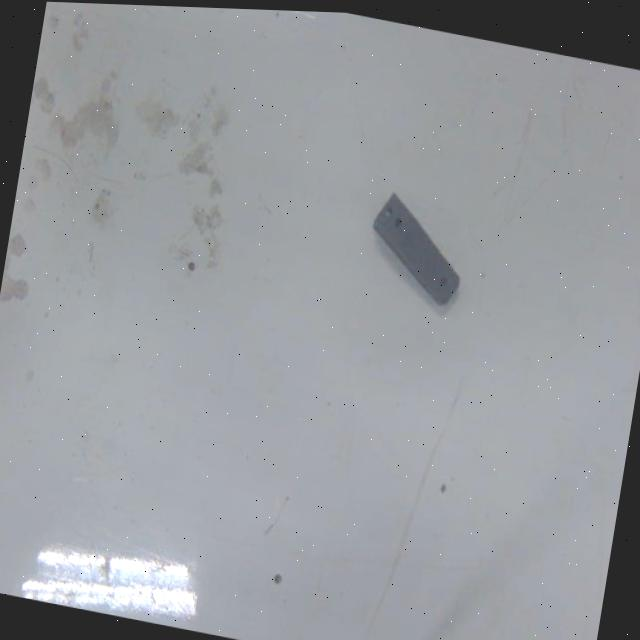grey: (362, 186, 473, 314)
head: (438, 270, 452, 294)
